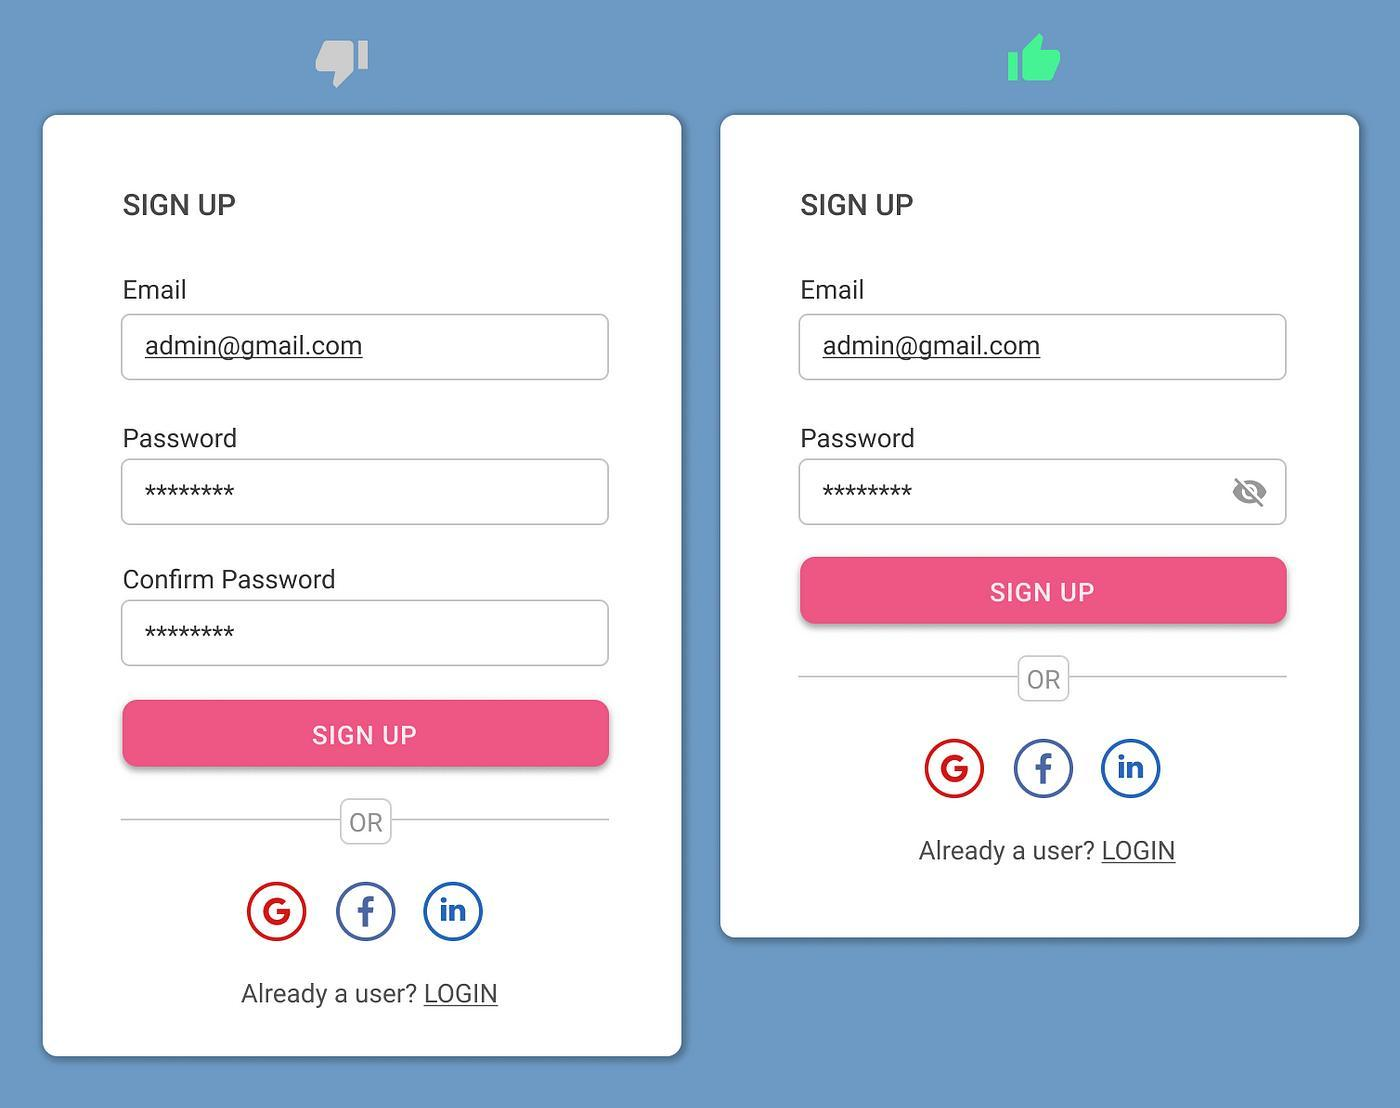button: (800, 557, 1290, 633), (125, 702, 609, 772)
icon: (922, 735, 988, 805), (1099, 738, 1165, 805), (1013, 735, 1078, 801), (420, 883, 489, 945), (335, 882, 398, 945), (248, 882, 309, 945)
input: (800, 313, 1289, 378), (803, 457, 1285, 520), (122, 461, 610, 524), (125, 318, 609, 375), (120, 605, 609, 660)
label: (115, 556, 345, 595), (118, 180, 245, 230), (785, 183, 935, 223), (795, 420, 925, 455), (117, 420, 248, 449), (115, 270, 197, 313), (790, 276, 874, 313)
